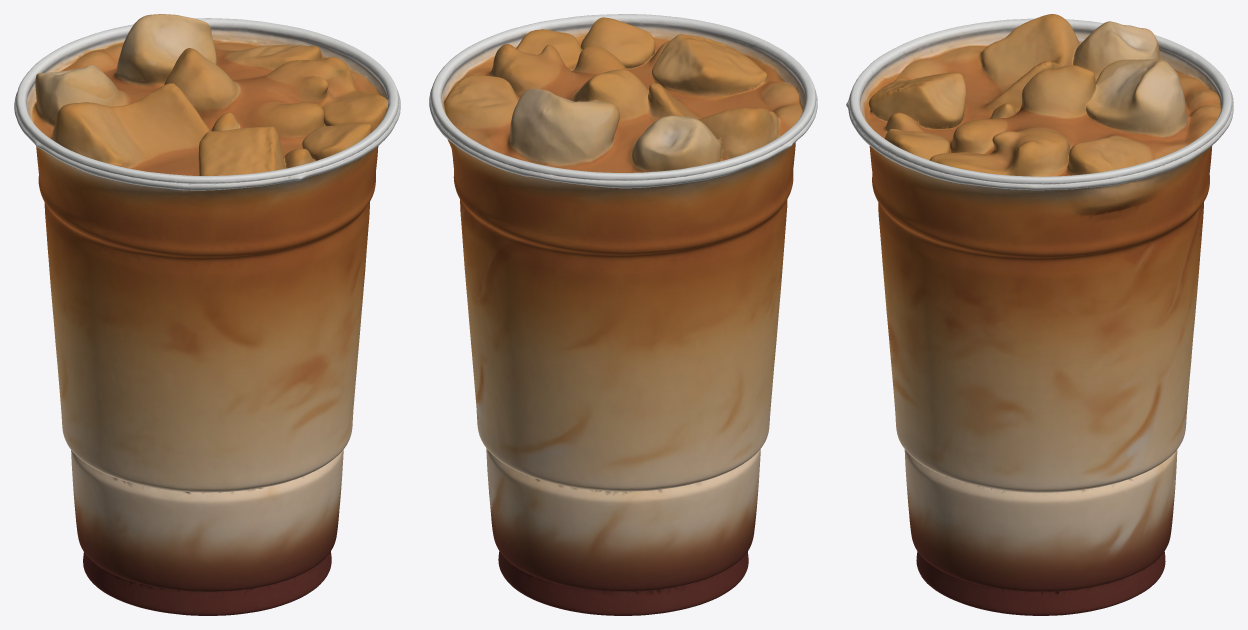
File: CoffeeModel.glb
3 renders of one model, left to right at view 1: azimuth 30°, elevation 25°; view 2: azimuth 150°, elevation 25°; view 3: azimuth 270°, elevation 25°, orthographic.
Visible parts, largest first — view 1: tripo_node_7a5778ae-e687-4a32-9d8f-d3bd8562960b; view 2: tripo_node_7a5778ae-e687-4a32-9d8f-d3bd8562960b; view 3: tripo_node_7a5778ae-e687-4a32-9d8f-d3bd8562960b.
Boxes of the visible parts, box(x1,y1,x2,y2) form: tripo_node_7a5778ae-e687-4a32-9d8f-d3bd8562960b: box(14, 14, 400, 615); tripo_node_7a5778ae-e687-4a32-9d8f-d3bd8562960b: box(429, 14, 817, 615); tripo_node_7a5778ae-e687-4a32-9d8f-d3bd8562960b: box(846, 14, 1233, 615).
Size of the model in its own units: 0.6973 by 1 by 0.6953.
Materials: 1 (1 with a texture image).
